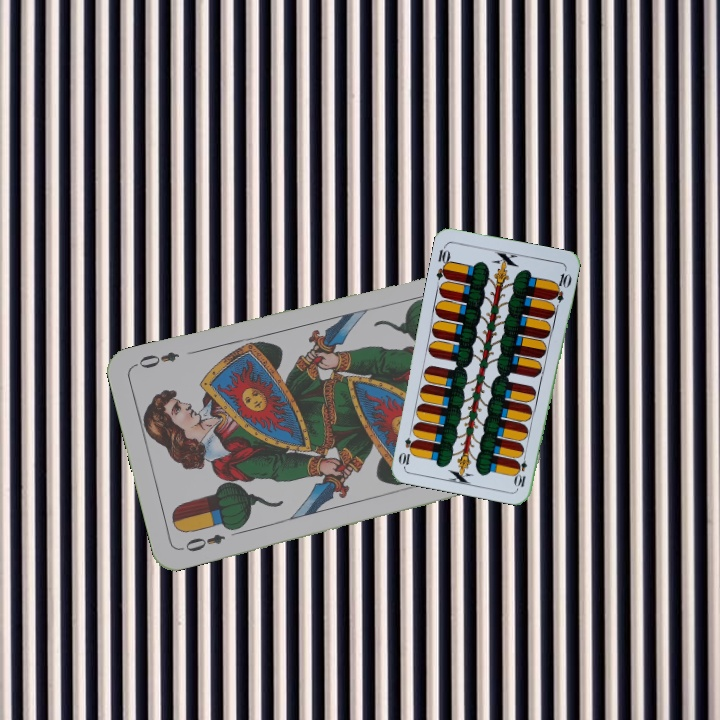E10: (432, 241, 453, 282), (512, 449, 530, 489)
EO: (176, 530, 228, 554)
